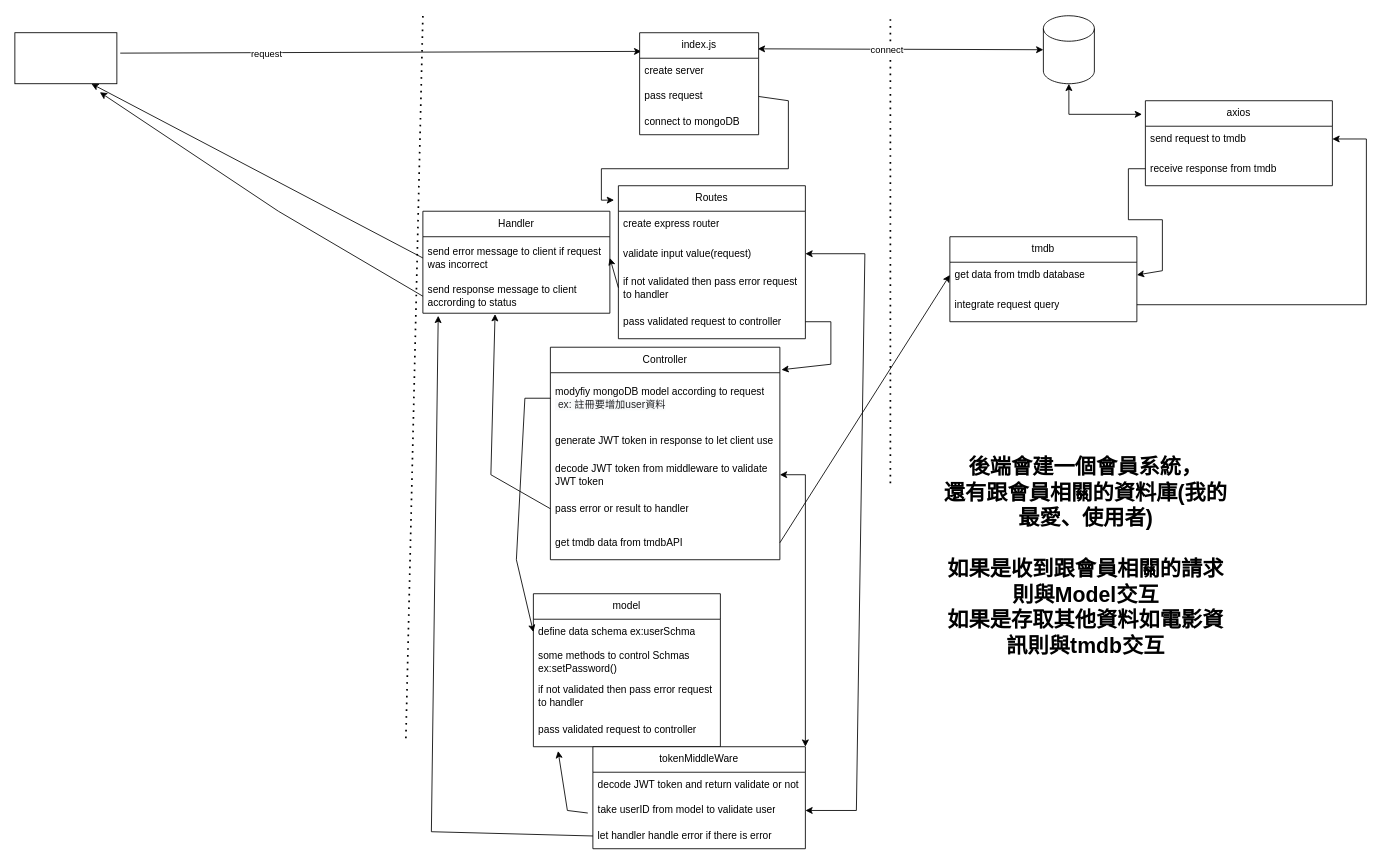
The diagram is 1388 pixels wide and 864 high, and some of its shapes have lost their labels. The centre of each missing label's shape, as x and y in pixels:
"Client" goes at (x=65, y=58).
"tmdb mongoDB database" goes at (x=1068, y=49).
